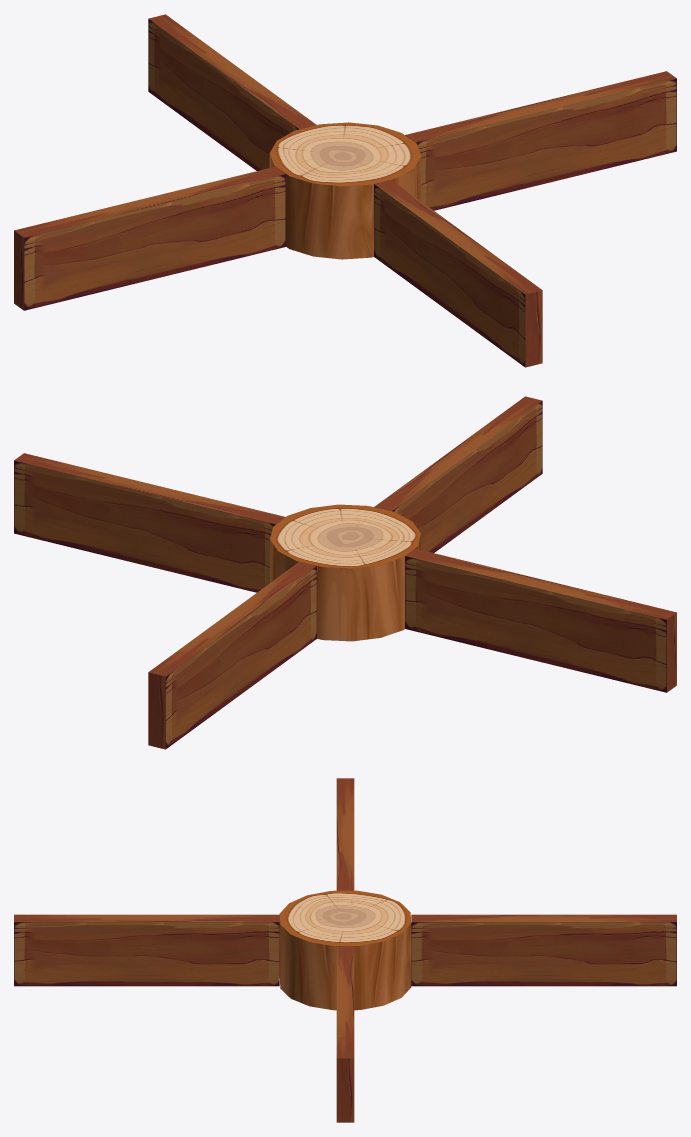
Rendered from four_blade_wood_02.fbx.
3 renders of one model, top to bottom at view 1: azimuth 30°, elevation 25°; view 2: azimuth 150°, elevation 25°; view 3: azimuth 270°, elevation 25°, orthographic. The views are drawn at different scales.
Parts seen in each view (by area): view 1: four_blade_wood_02; view 2: four_blade_wood_02; view 3: four_blade_wood_02.
Part boxes in pixels (<box>): four_blade_wood_02: <box>14,14,676,367</box>; four_blade_wood_02: <box>14,396,676,749</box>; four_blade_wood_02: <box>14,778,676,1122</box>.
Size of the model in its own units: 374 by 40 by 374.
